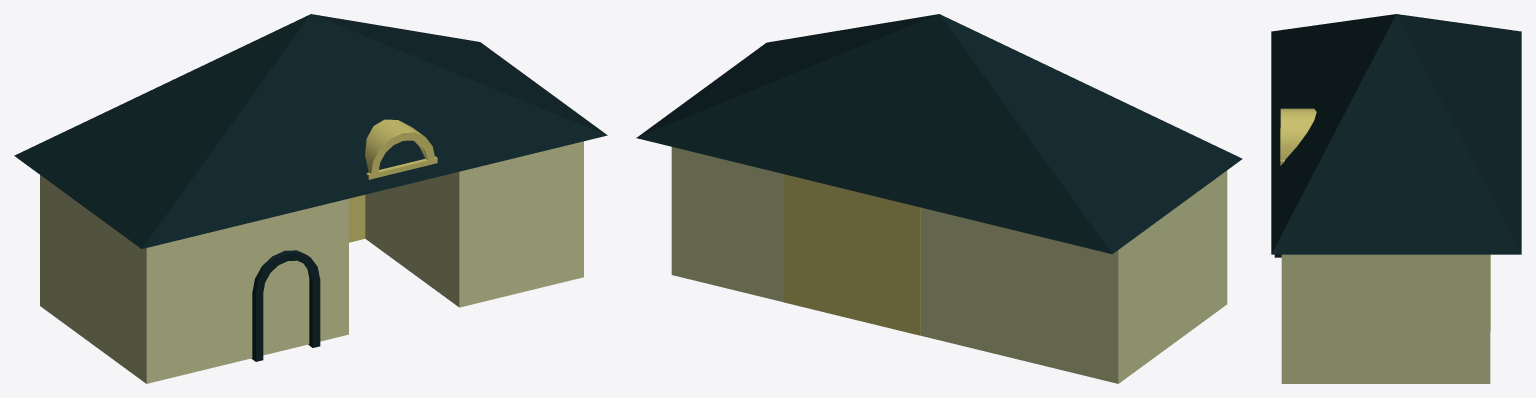
Rendered from dom3_nowy.fbx.
3 renders of one model, left to right at view 1: azimuth 30°, elevation 25°; view 2: azimuth 150°, elevation 25°; view 3: azimuth 270°, elevation 25°, orthographic. The views are drawn at different scales.
Parts seen in each view (by area): view 1: Ostrosłup, Sześcian_2, Sześcian_1, Drzwi, okno_1, Sześcian; view 2: Ostrosłup, Sześcian_2, Sześcian, Sześcian_1; view 3: Ostrosłup, Sześcian_1, okno_1.
Part boxes in pixels (<box>): Ostrosłup: <box>14,14,607,248</box>; Sześcian_2: <box>40,175,348,383</box>; Sześcian_1: <box>365,141,583,307</box>; Drzwi: <box>251,250,320,361</box>; okno_1: <box>365,119,437,179</box>; Sześcian: <box>349,195,365,242</box>; Ostrosłup: <box>636,14,1242,254</box>; Sześcian_2: <box>920,170,1227,383</box>; Sześcian: <box>784,174,920,335</box>; Sześcian_1: <box>671,147,783,302</box>; Ostrosłup: <box>1271,14,1521,254</box>; Sześcian_1: <box>1281,254,1490,383</box>; okno_1: <box>1280,108,1316,165</box>.
Size of the model in its own units: 418 by 235 by 198.
